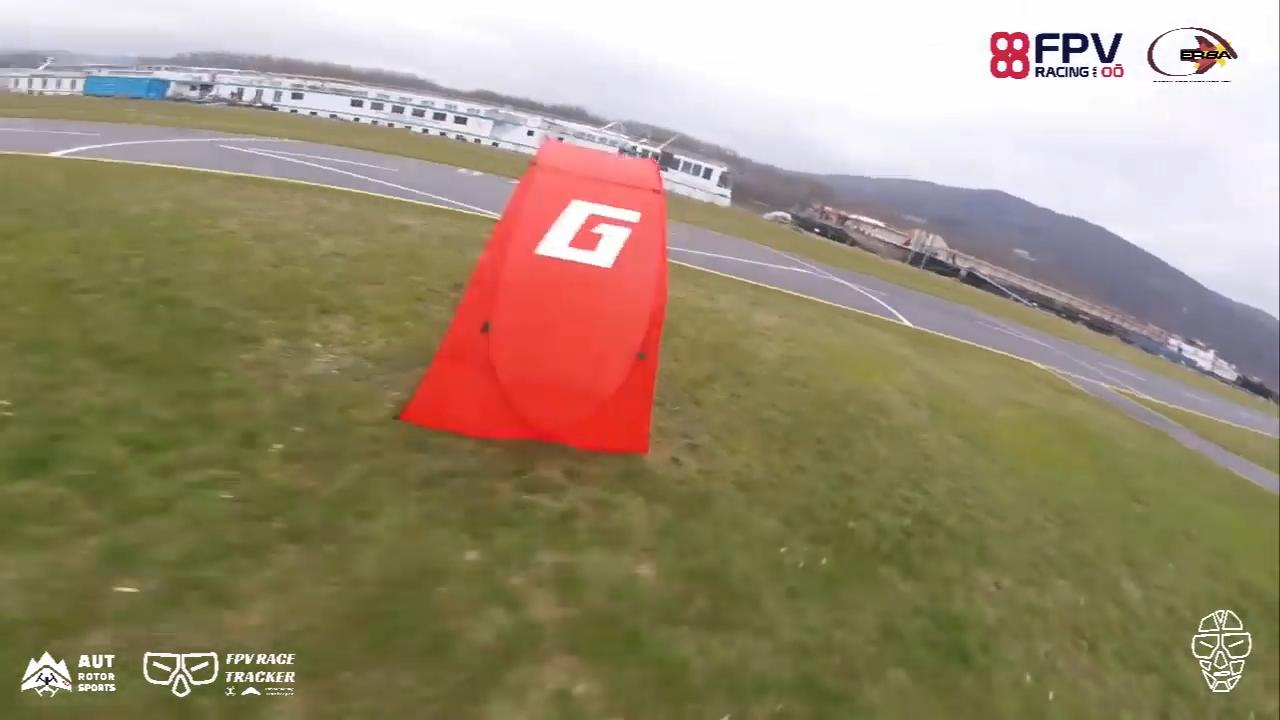gate: (399, 136, 672, 453)
